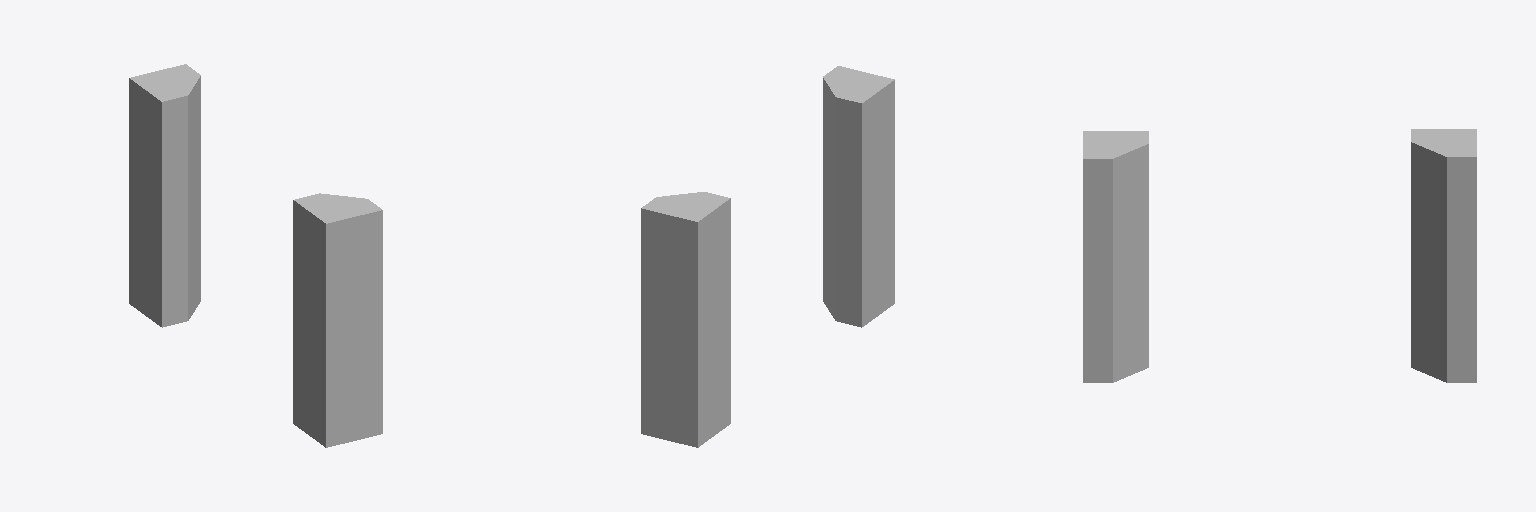
The model's file is columns.obj.
3 renders of one model, left to right at view 1: azimuth 30°, elevation 25°; view 2: azimuth 150°, elevation 25°; view 3: azimuth 270°, elevation 25°, orthographic.
Parts seen in each view (by area): view 1: Marble_Column_Left, Marble_Column_Right; view 2: Marble_Column_Right, Marble_Column_Left; view 3: Marble_Column_Right, Marble_Column_Left.
Boxes of the visible parts, box(x1,y1,x2,y2) form: Marble_Column_Left: box(293, 193, 382, 447); Marble_Column_Right: box(129, 64, 200, 327); Marble_Column_Right: box(641, 192, 730, 447); Marble_Column_Left: box(823, 66, 894, 327); Marble_Column_Right: box(1411, 129, 1476, 382); Marble_Column_Left: box(1083, 131, 1148, 382).
Size of the model in its own units: 1 by 3.79 by 6.